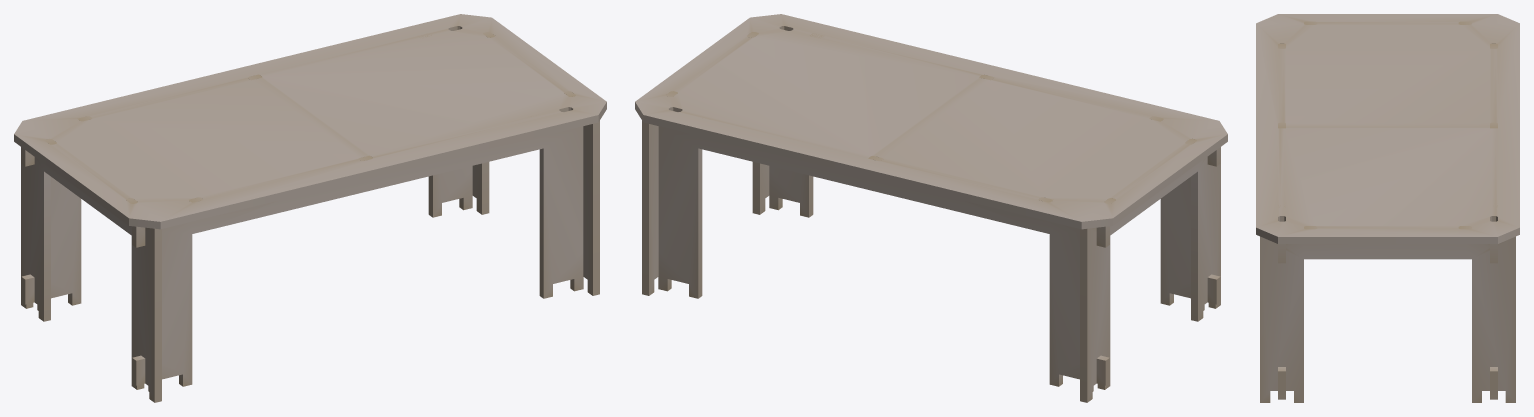
Rendered from NODO_MESA_RATONA_PORTICO_PARAISO_MDF18_PRUEBA.glb.
3 renders of one model, left to right at view 1: azimuth 30°, elevation 25°; view 2: azimuth 150°, elevation 25°; view 3: azimuth 270°, elevation 25°, orthographic. The views are drawn at different scales.
Visible parts, largest first — view 1: Tapa, Lado 2, Frente, Lado 1, Contrafrente; view 2: Tapa, Lado 1, Frente, Lado 2, Contrafrente; view 3: Tapa, Contrafrente, Lado 2, Lado 1.
Part boxes in pixels (bbox=[...]): Tapa: bbox=[14, 14, 606, 229]; Lado 2: bbox=[132, 116, 583, 391]; Frente: bbox=[21, 138, 161, 402]; Lado 1: bbox=[21, 35, 472, 310]; Contrafrente: bbox=[472, 32, 599, 295]; Tapa: bbox=[635, 14, 1227, 229]; Lado 1: bbox=[658, 118, 1109, 391]; Frente: bbox=[1080, 138, 1220, 402]; Lado 2: bbox=[769, 33, 1220, 310]; Contrafrente: bbox=[642, 32, 769, 295]; Tapa: bbox=[1256, 14, 1519, 243]; Contrafrente: bbox=[1260, 226, 1515, 402]; Lado 2: bbox=[1278, 43, 1285, 399]; Lado 1: bbox=[1490, 43, 1497, 399].
Bounding box in the file's own units: 1.2 × 0.436 × 0.6.
